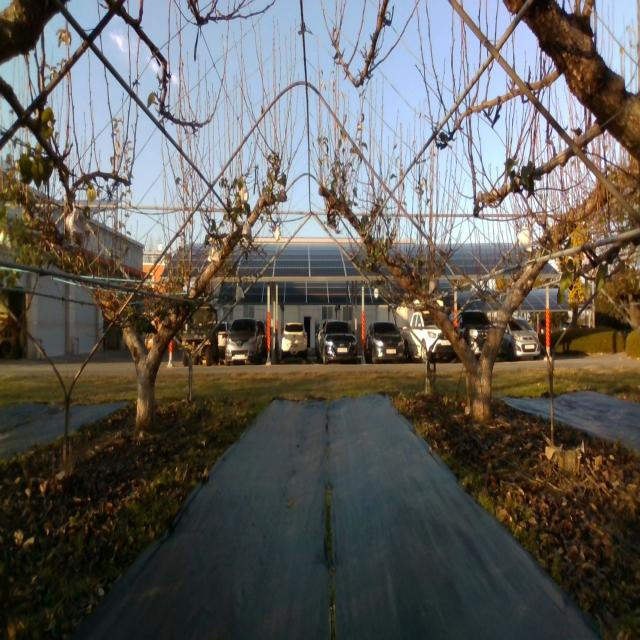pearbags: (66, 206, 86, 248), (517, 227, 533, 256), (207, 243, 221, 263), (242, 219, 252, 237)
